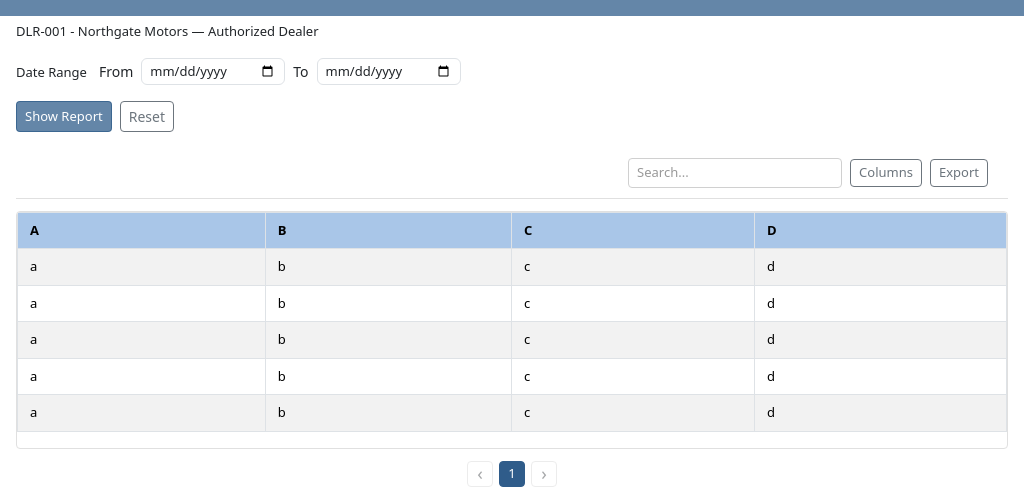
Test case: ReportSearchOnlyPageComponent › reset() clears the search bar back to empty values
The width and height of the screenshot is (1024, 504).
Type "2026-01-01" into the date field with id "report-search-bar-date-from". click: (213, 71)
box: [141,58,285,85]
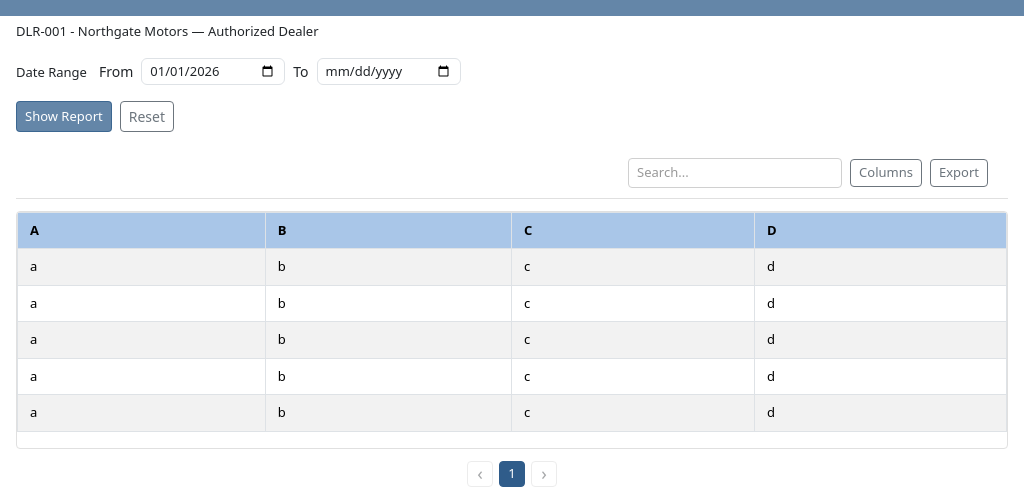
Click the button "Reset". click: (147, 117)
box: [120,101,174,132]
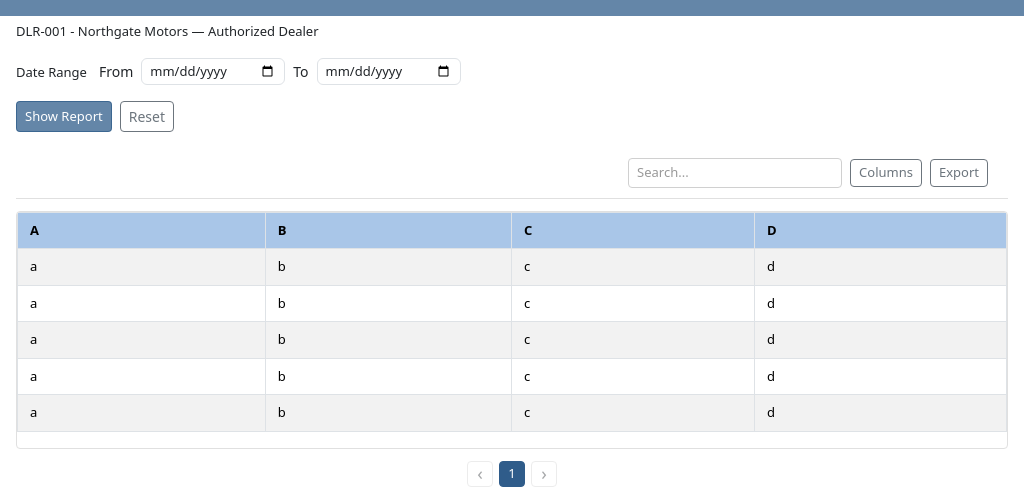
Expected: the date field with id "report-search-bar-date-from" is empty, [141,58,285,85]
